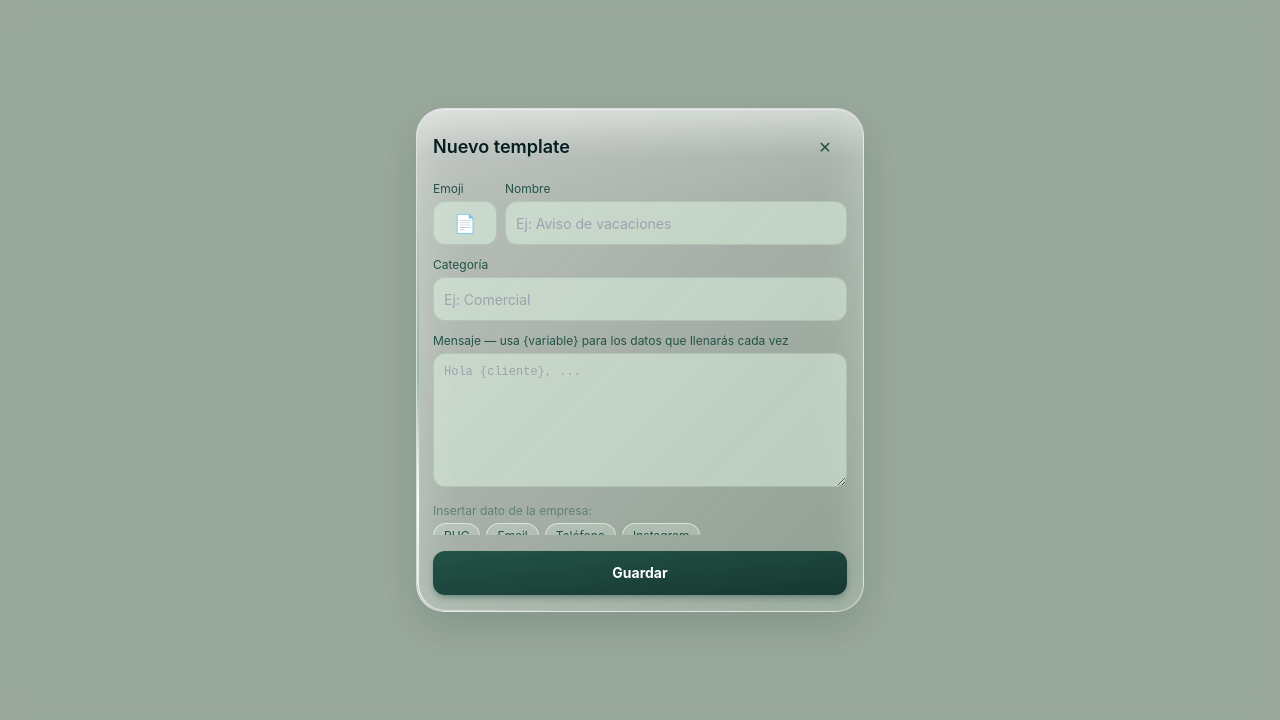
Test case: TemplateEditor — create mode › blocks saving with an empty name and body
The width and height of the screenshot is (1280, 720).
Click the button "Guardar". click: (640, 573)
box: [433, 551, 847, 595]
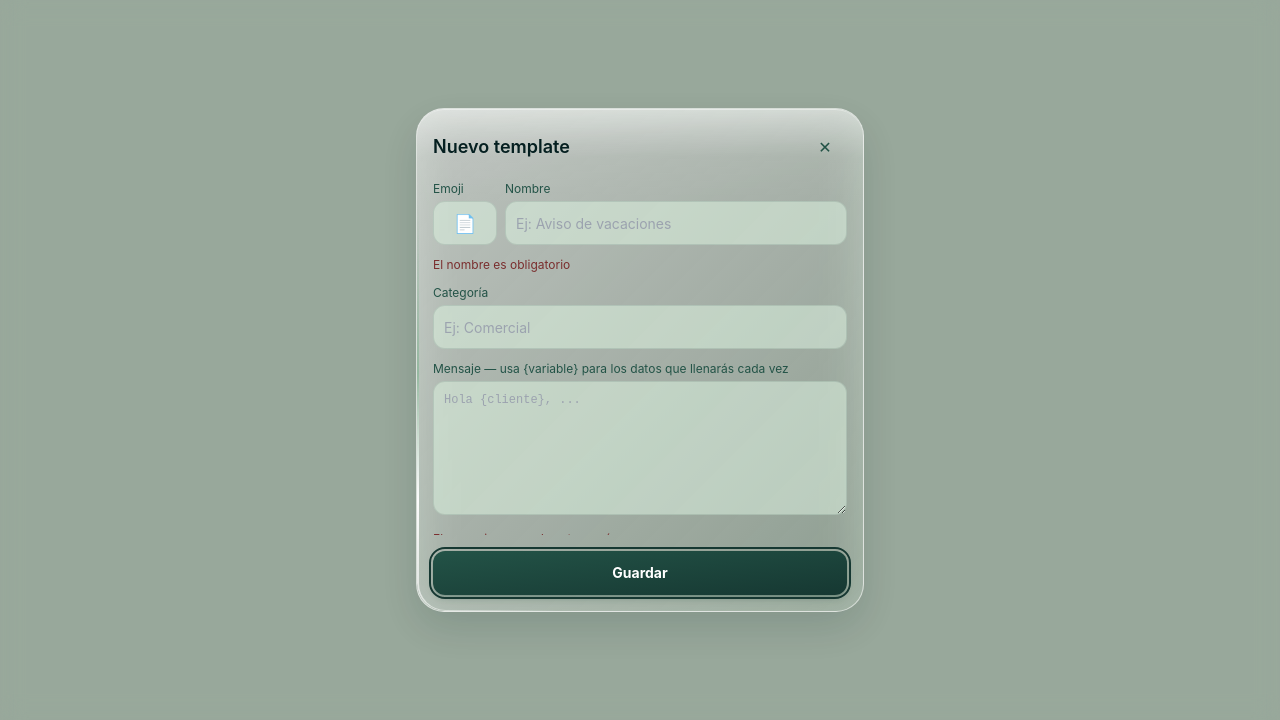
Now the text "El nombre es obligatorio" is shown, box [433, 257, 570, 272]
